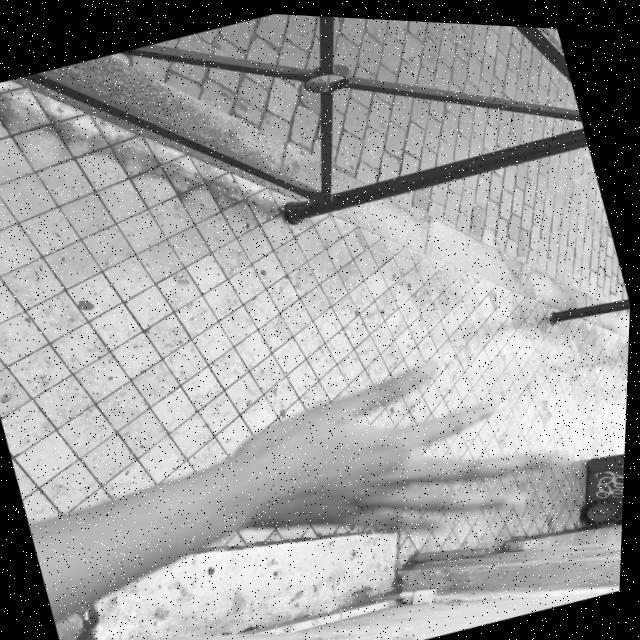no-gloves: (217, 312, 592, 586)
